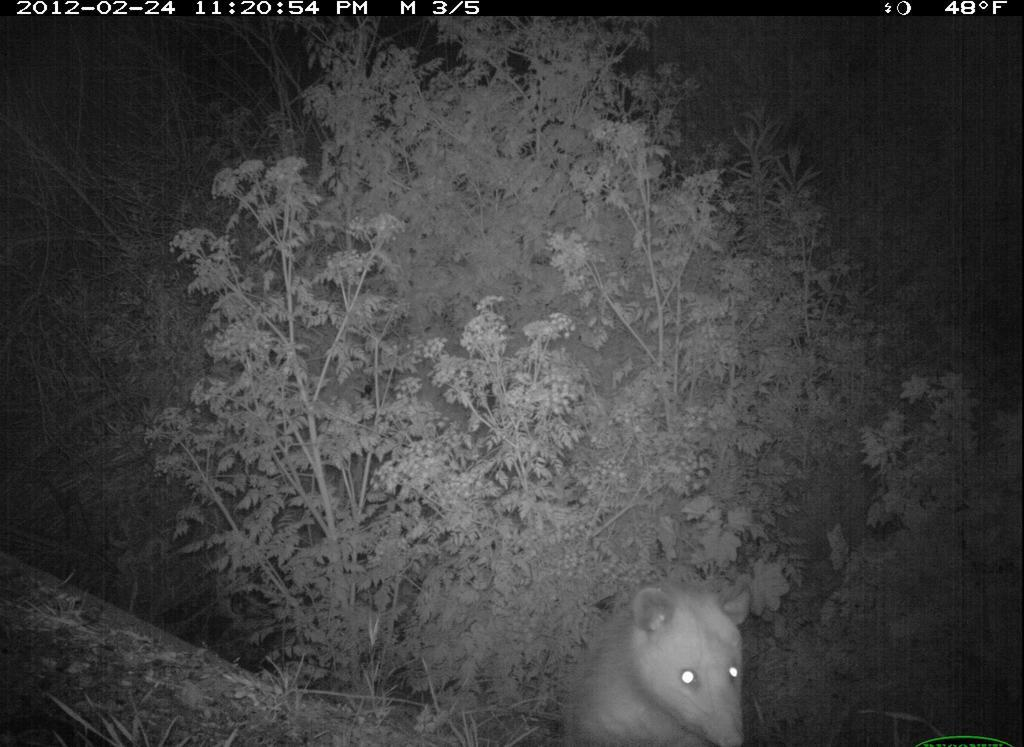opossum: (557, 575, 761, 747)
